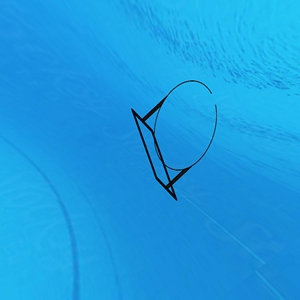circle: (128, 79, 221, 203)
